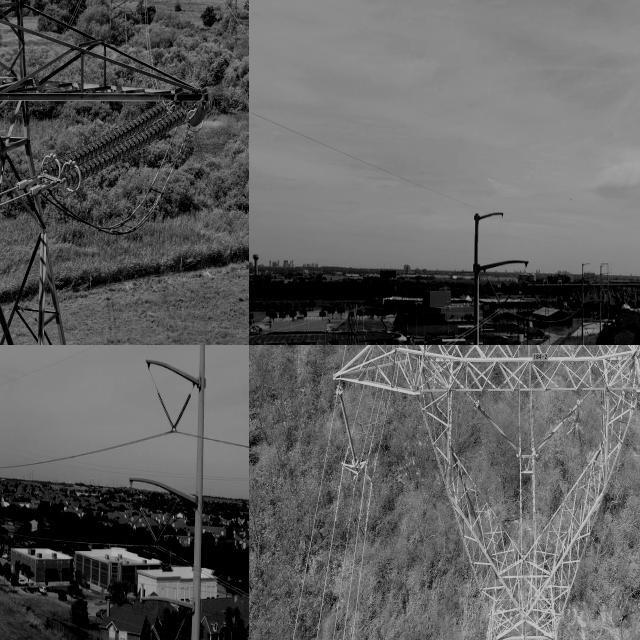杆塔: (340, 345, 640, 640), (0, 0, 87, 345), (219, 0, 249, 45)
正常绝缘子: (31, 92, 203, 191), (329, 378, 366, 483), (473, 398, 522, 460), (532, 400, 581, 459), (168, 391, 193, 437), (153, 504, 178, 548), (137, 504, 161, 546), (156, 390, 178, 434), (498, 275, 521, 312), (485, 273, 505, 312), (173, 618, 186, 640), (150, 622, 163, 640)
